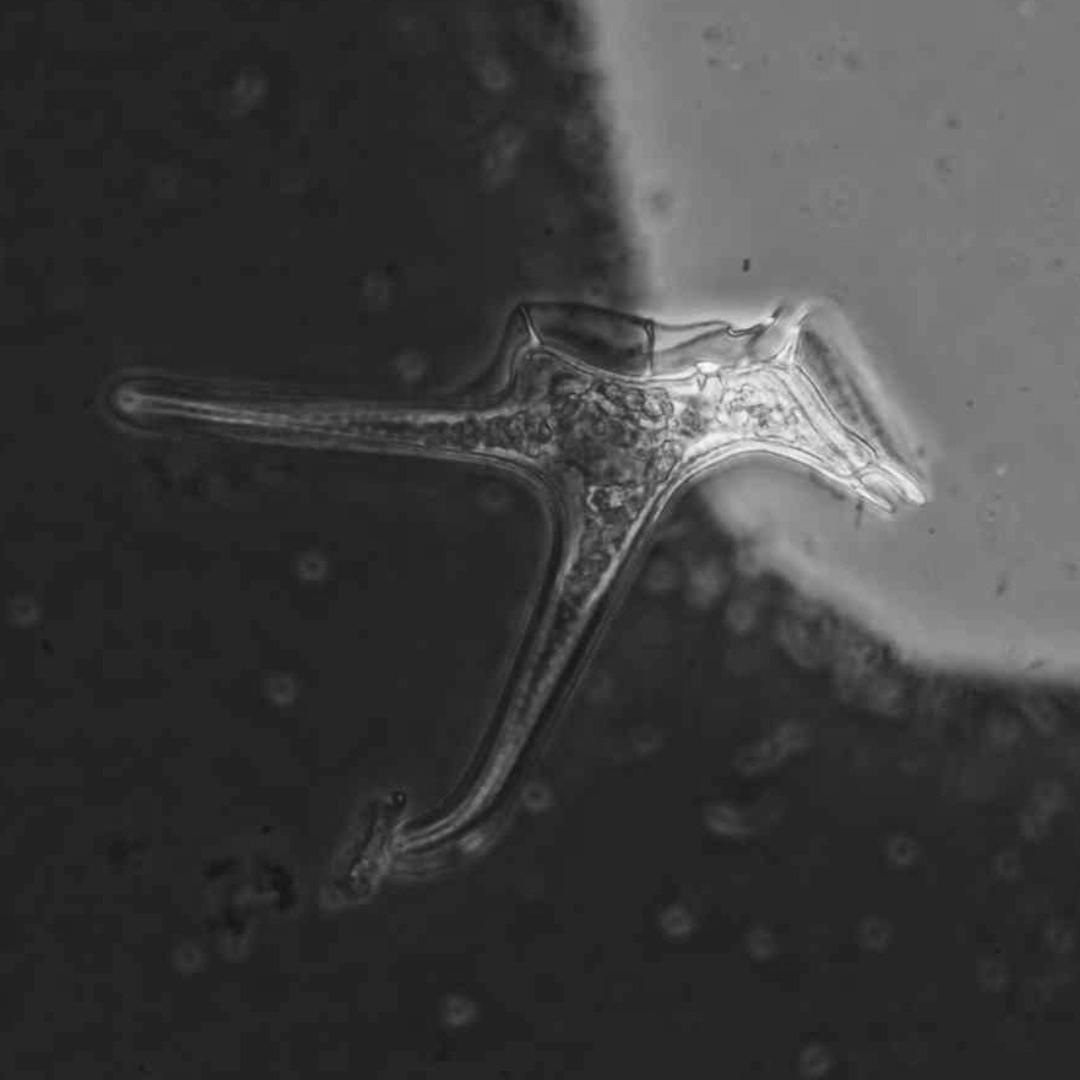dinophysis_miles: (110, 310, 924, 897)
